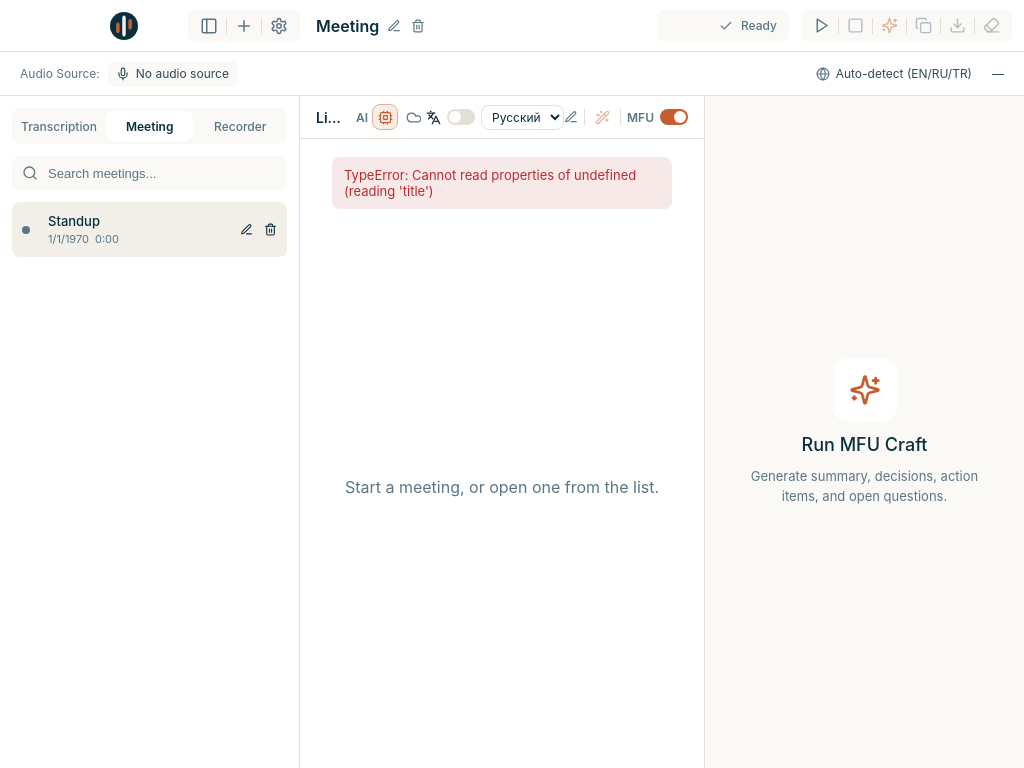
Test case: StreamingView — events › a failed rename surfaces the error
Expected: the text "Standup" is shown, [48,213,100,229]
Click the button named "Rename Standup": coordinates (246, 230) [235,218,257,240]
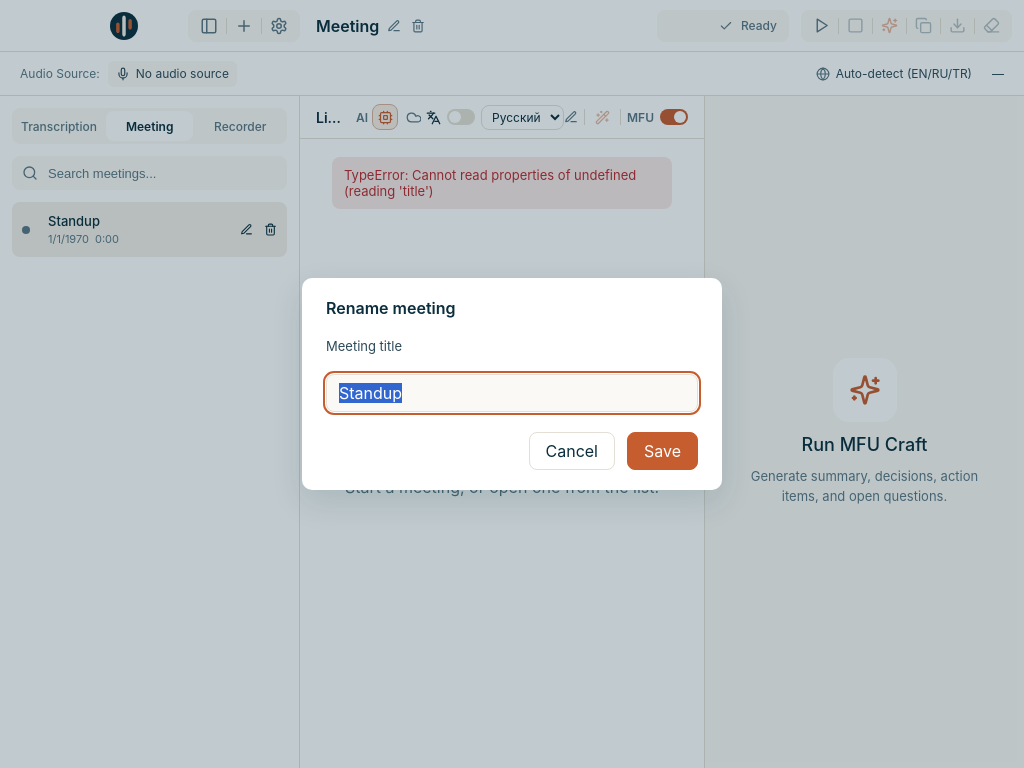
Replace the text in the field labelled "Meeting title" with "Renamed": coordinates (512, 393) [326,374,698,412]
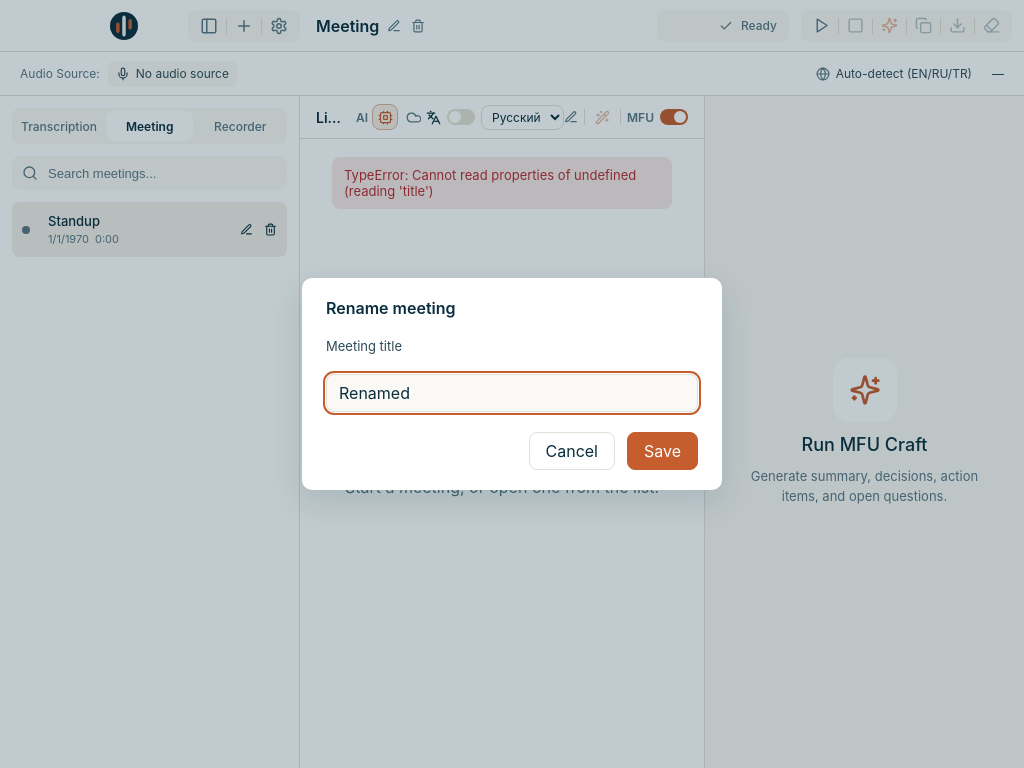
Click the button "Save": coordinates (662, 451) [627,432,698,470]
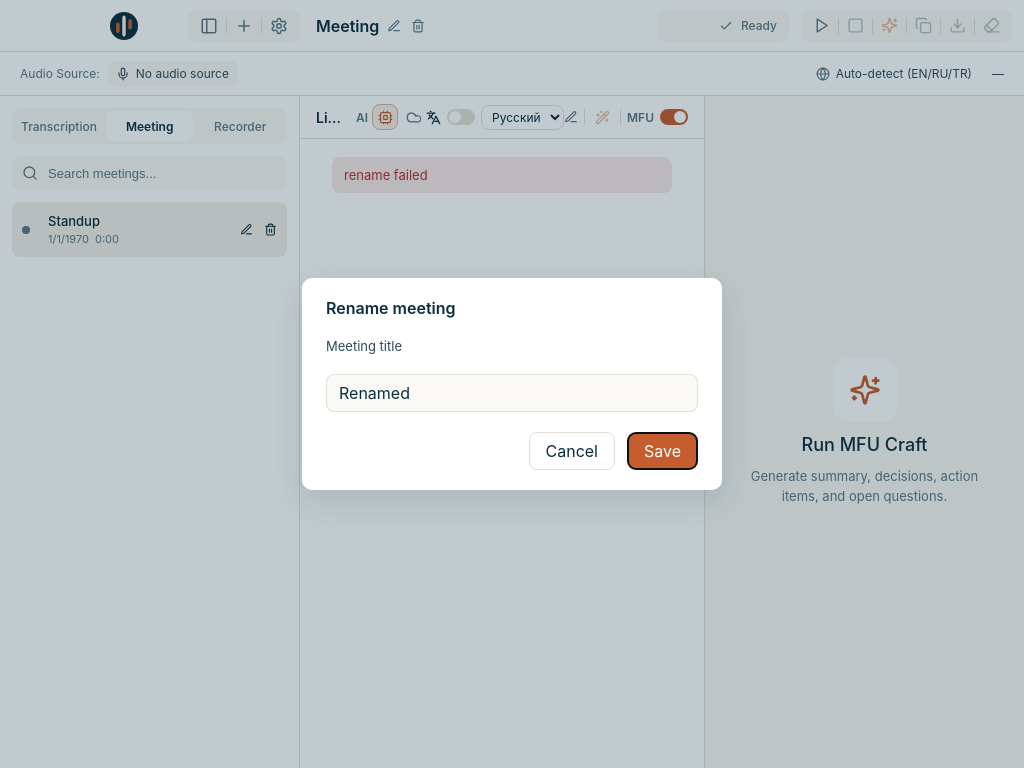
Expected: the text "rename failed" is shown, [332,157,672,193]
